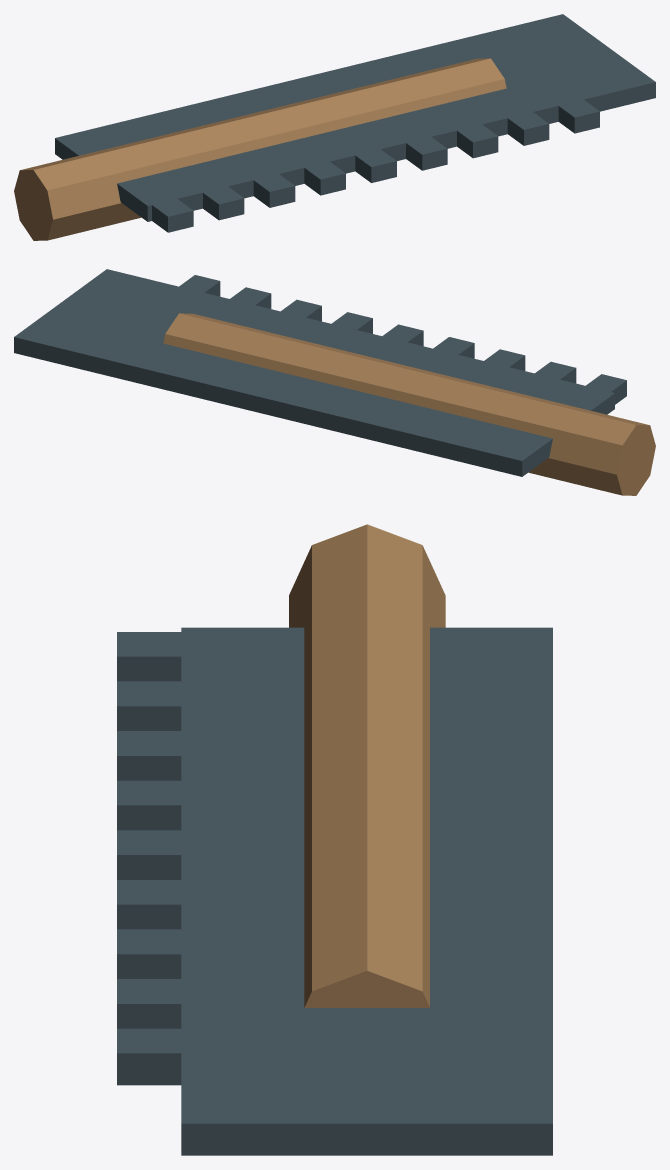
The model's file is set_spirit_level.glb.
3 views of the same model, one above another, from view 1: azimuth 30°, elevation 25°; view 2: azimuth 150°, elevation 25°; view 3: azimuth 270°, elevation 25° (orthographic). The views are drawn at different scales.
Parts seen in each view (by area): view 1: set_spirit_level; view 2: set_spirit_level; view 3: set_spirit_level.
Part boxes in pixels (left/top/right/bottom): set_spirit_level: left=14, top=14, right=655, bottom=240; set_spirit_level: left=14, top=269, right=655, bottom=495; set_spirit_level: left=117, top=524, right=552, bottom=1155.
Size of the model in its own units: 0.34 by 0.04 by 0.1115.
